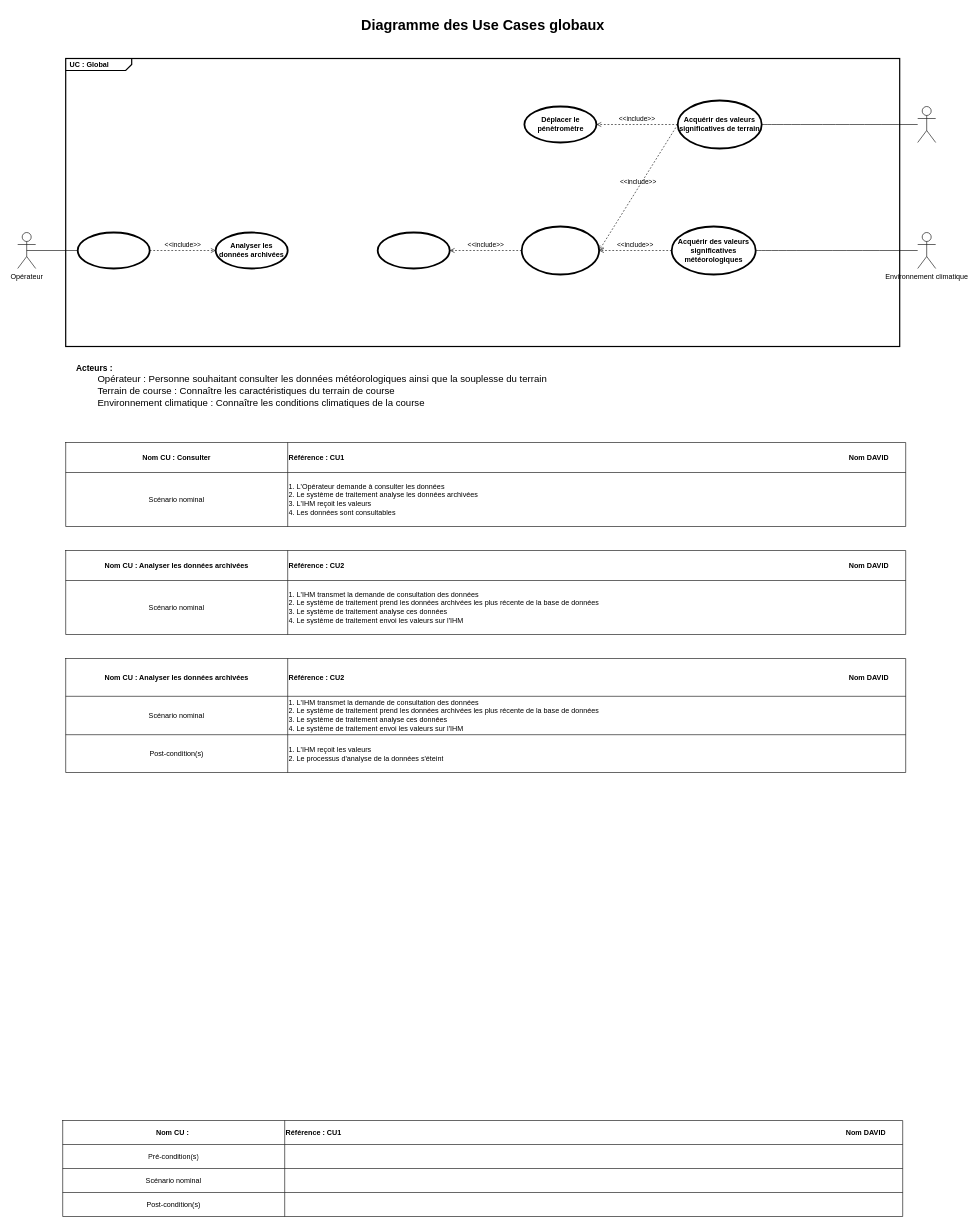
Image size: 978x1227. Some labels were removed from this diagram. The shapes that lost their labels are listed below. From the top down, each one's centre as x and y in pixels, then its label:
point (926, 124): Terrain de course
point (113, 250): Consulter
point (413, 250): Archiver les données
point (560, 250): ~Transmettre les valeurs acquises~
